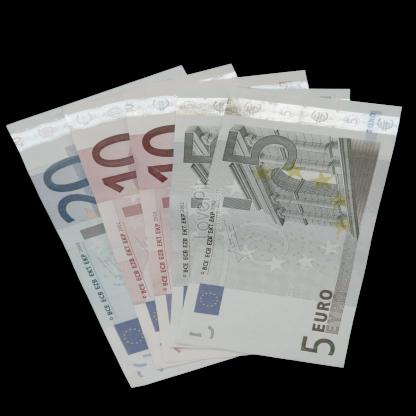euro_banknote: (151, 139, 416, 311), (7, 190, 297, 273), (79, 184, 329, 239)
